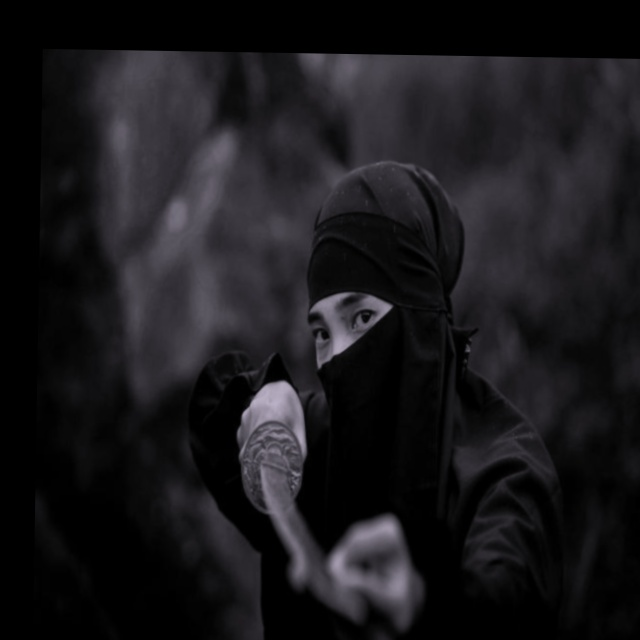Sharp-Object: (229, 411, 365, 637)
